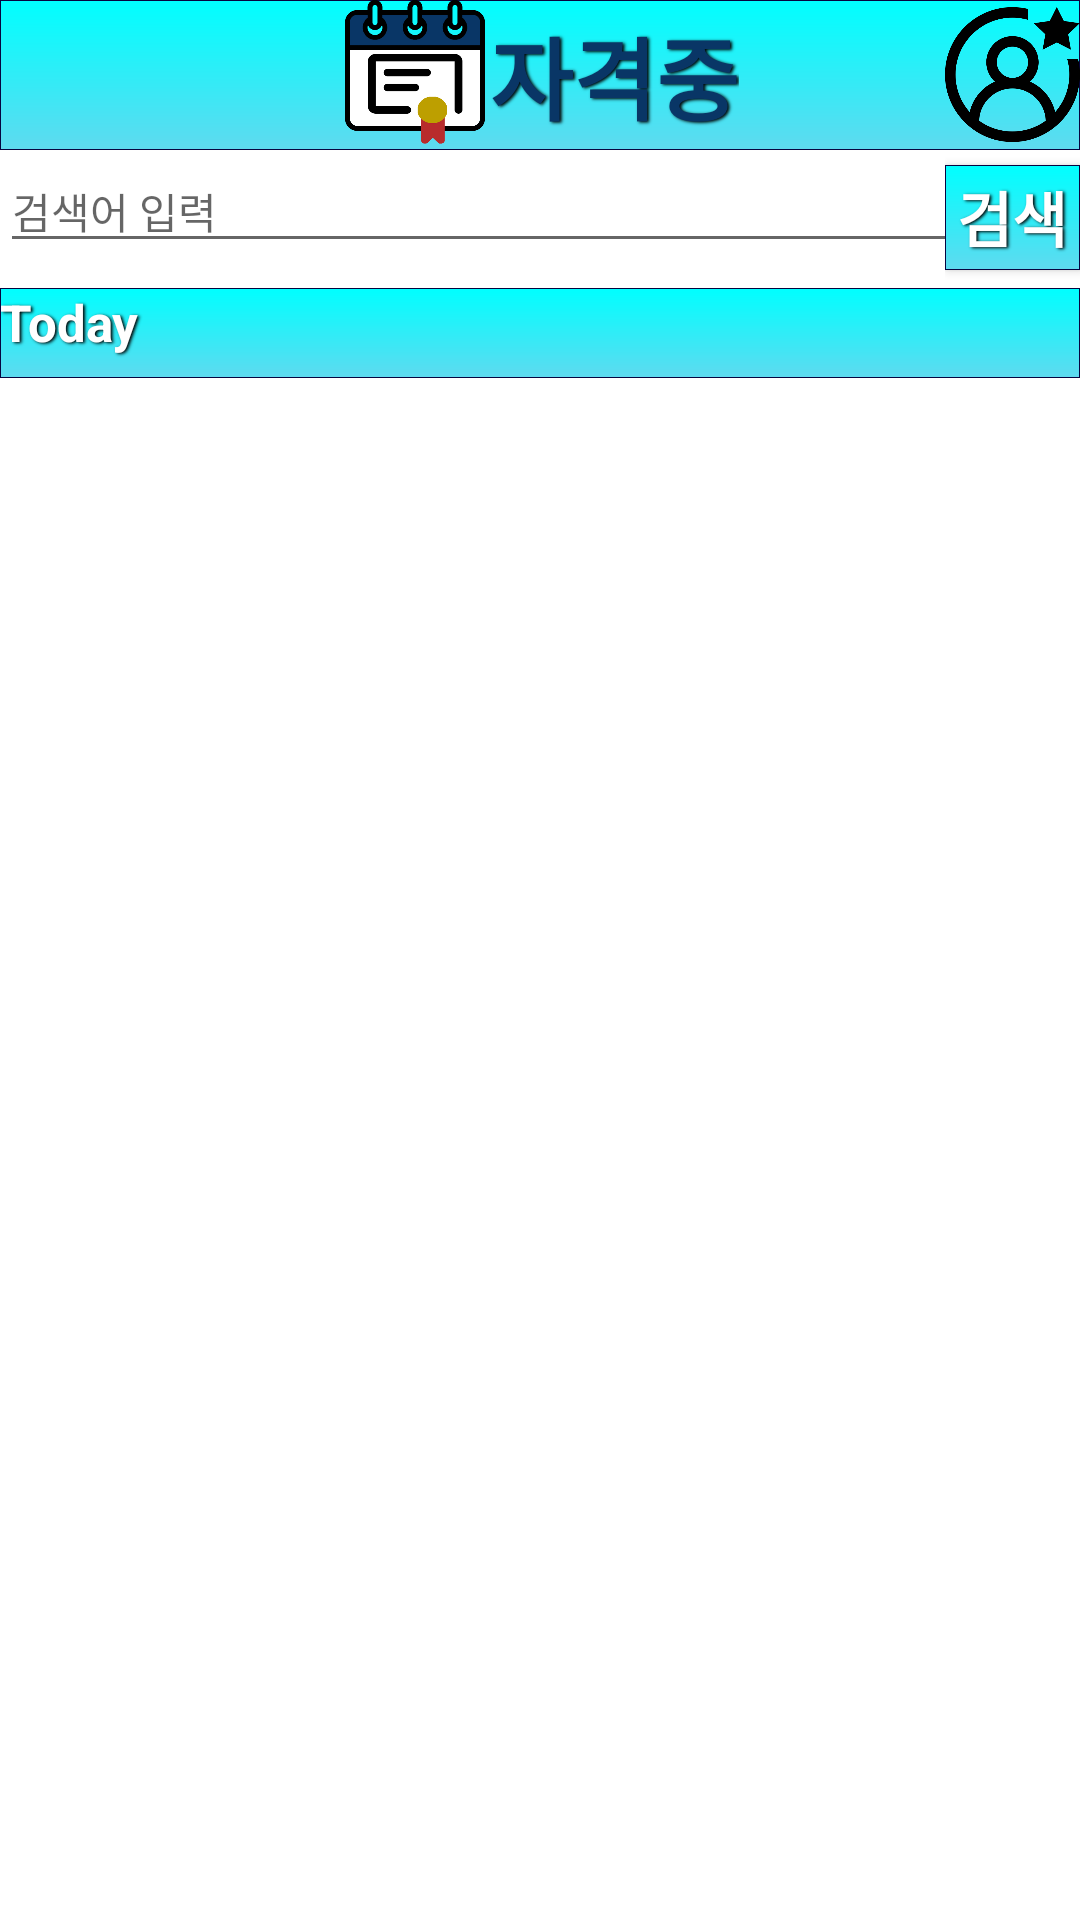

Icons on this 1080×1920 Android screen, each with the point to tap as (x,y):
favorites: (1012,74)
